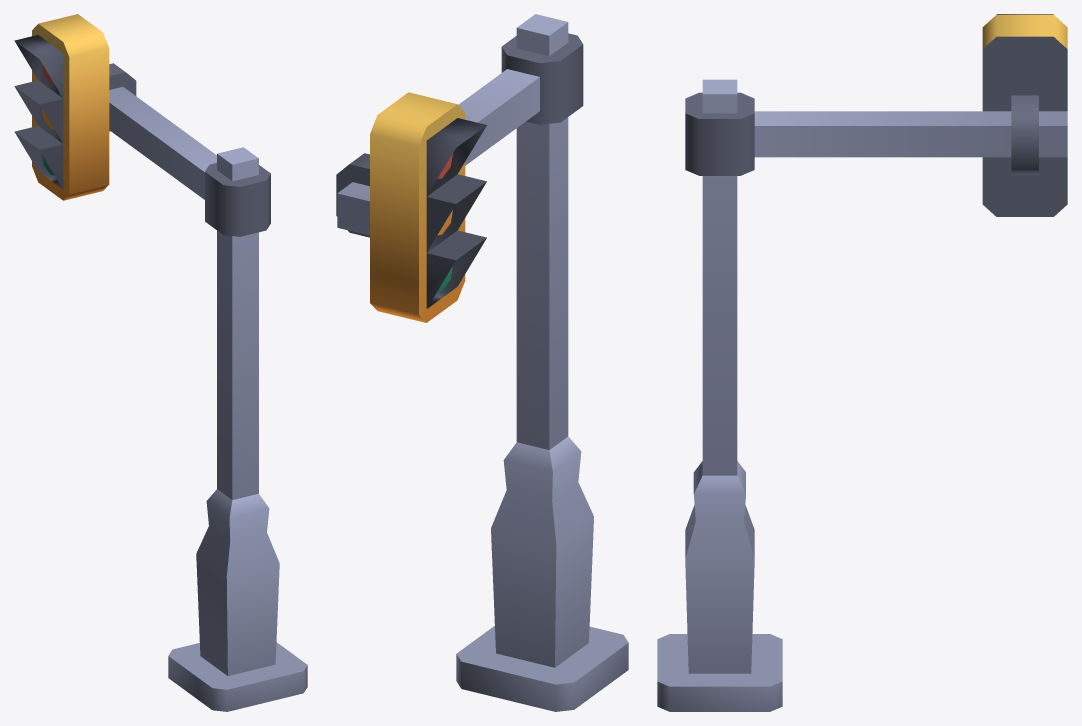
Rendered from traffic-light-hanging.glb.
3 renders of one model, left to right at view 1: azimuth 30°, elevation 25°; view 2: azimuth 150°, elevation 25°; view 3: azimuth 270°, elevation 25°, orthographic. The views are drawn at different scales.
Parts seen in each view (by area): view 1: traffic-light-hanging; view 2: traffic-light-hanging; view 3: traffic-light-hanging.
Part boxes in pixels (bbox=[...]): traffic-light-hanging: bbox=[14, 14, 307, 711]; traffic-light-hanging: bbox=[336, 14, 628, 711]; traffic-light-hanging: bbox=[657, 14, 1067, 711].
Size of the model in its own units: 0.1176 by 0.5091 by 0.295.
Materials: 1 (1 with a texture image).
